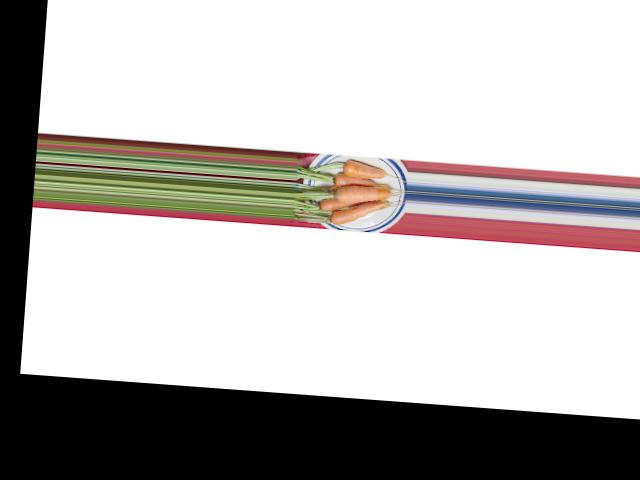carrot: (337, 156, 388, 182)
